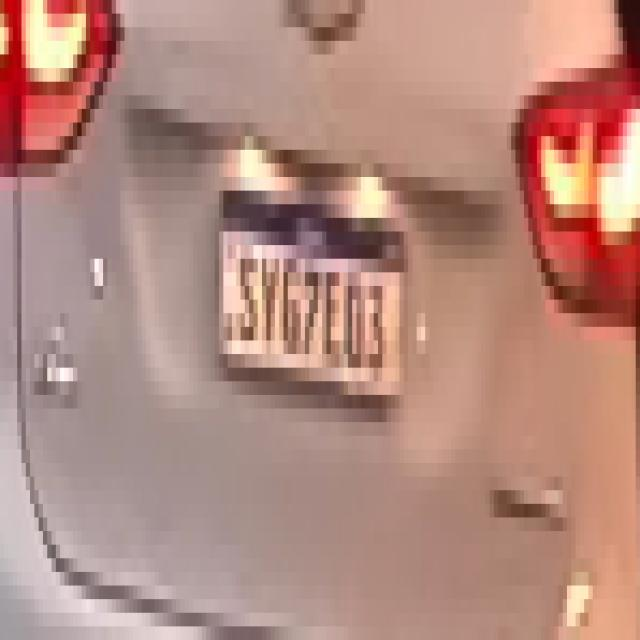Placa_mercosul_carro: (217, 187, 407, 398)
